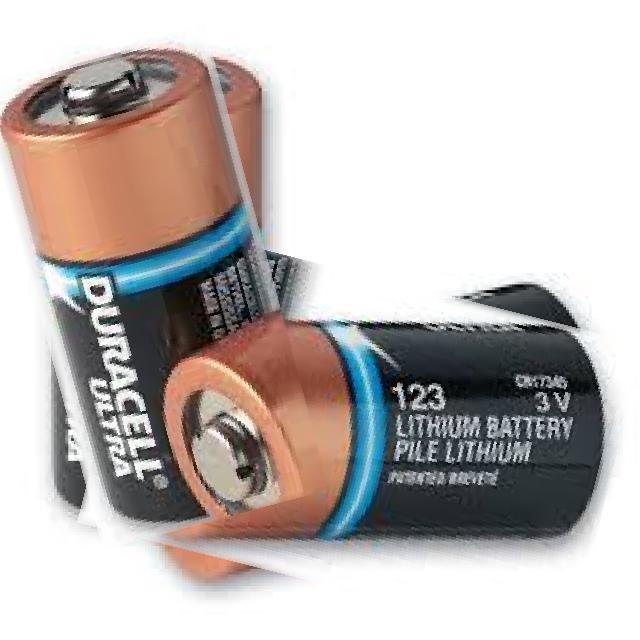Battery: (1, 34, 284, 524), (183, 316, 610, 539), (215, 59, 264, 232)
